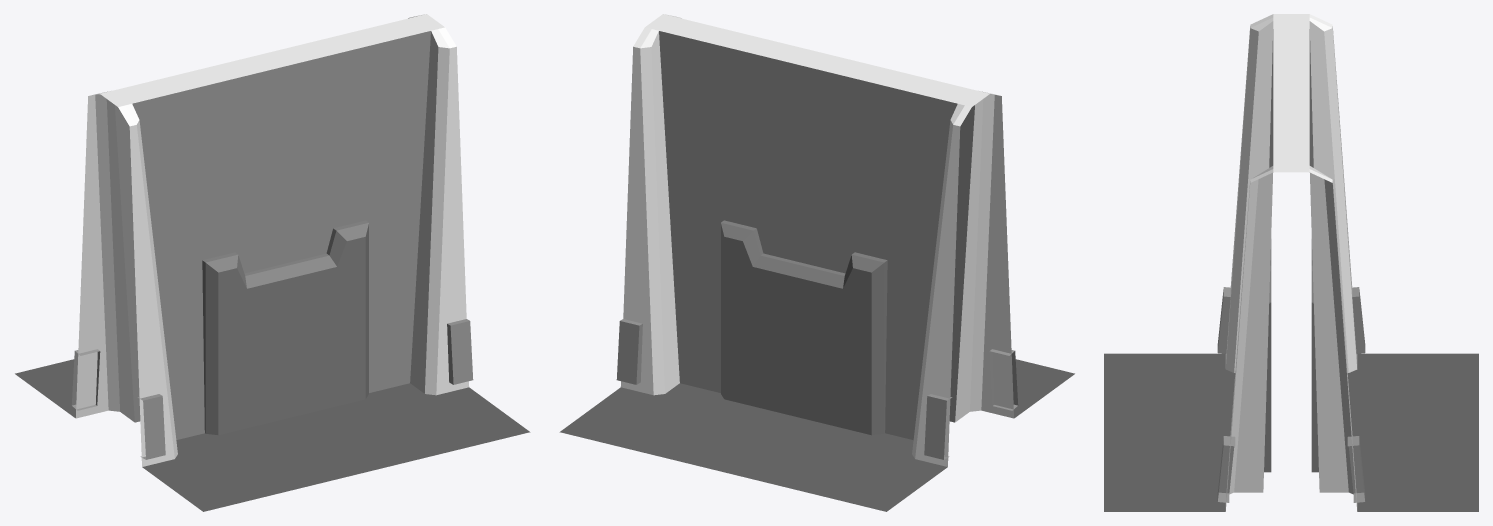
File: I_Wall_Straight_2.fbx
3 renders of one model, left to right at view 1: azimuth 30°, elevation 25°; view 2: azimuth 150°, elevation 25°; view 3: azimuth 270°, elevation 25°, orthographic.
Visible parts, largest first — view 1: I_Wall_Straight_2; view 2: I_Wall_Straight_2; view 3: I_Wall_Straight_2.
Boxes of the visible parts, x1=… form: I_Wall_Straight_2: x1=15, y1=14, x2=530, y2=511; I_Wall_Straight_2: x1=559, y1=14, x2=1074, y2=511; I_Wall_Straight_2: x1=1104, y1=14, x2=1478, y2=511.
Size of the model in its own units: 200 by 200 by 200.
